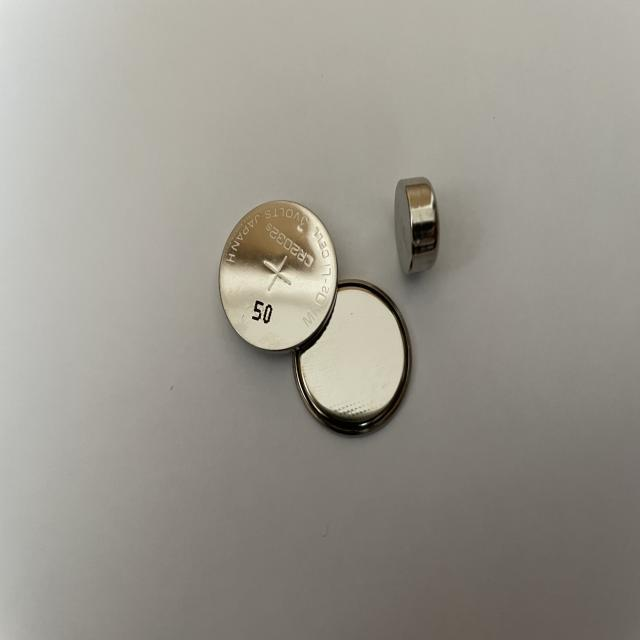COIN: (291, 276, 411, 443), (216, 198, 338, 356), (392, 172, 442, 280)
